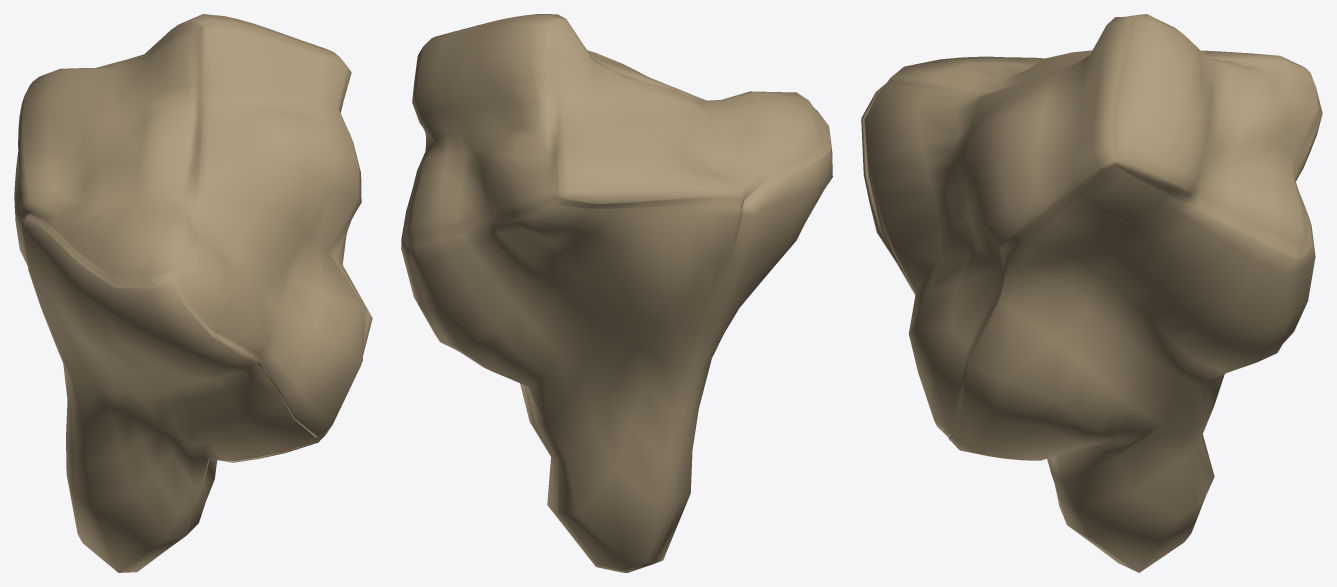
Rendered from rock1.glb.
3 views of the same model, side by side, from view 1: azimuth 30°, elevation 25°; view 2: azimuth 150°, elevation 25°; view 3: azimuth 270°, elevation 25° (orthographic). The views are drawn at different scales.
Visible parts, largest first — view 1: Cube; view 2: Cube; view 3: Cube.
Boxes of the visible parts, x1,y1,x2,y2 form: Cube: (14, 14, 372, 572); Cube: (401, 14, 832, 572); Cube: (861, 14, 1322, 572).
Size of the model in its own units: 2.65 by 4.02 by 2.87.
